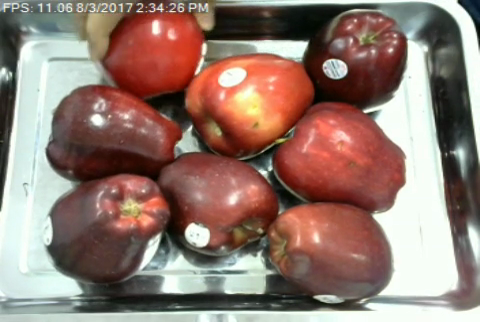Apple: (269, 99, 408, 214), (41, 171, 174, 287), (181, 49, 318, 161), (43, 82, 185, 183), (263, 198, 396, 305), (155, 150, 281, 260), (299, 6, 411, 112), (96, 3, 210, 99)
